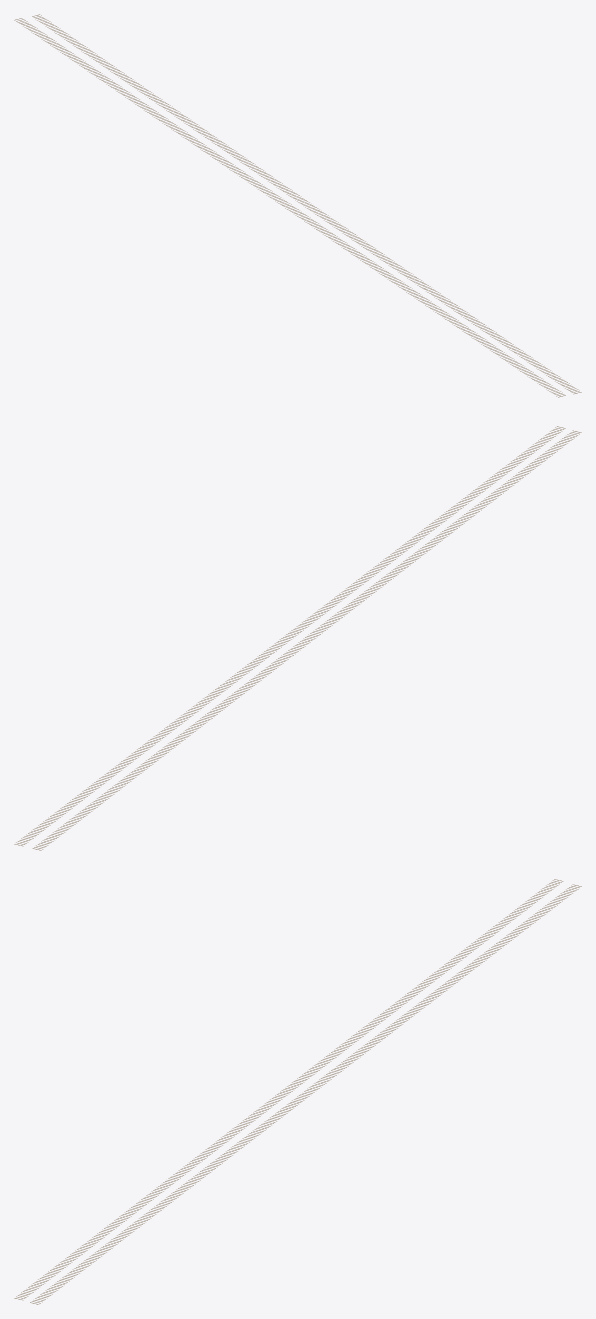
Rendered from c_1629_17842_rail_sleeper.glb.
3 renders of one model, top to bottom at view 1: azimuth 30°, elevation 25°; view 2: azimuth 150°, elevation 25°; view 3: azimuth 330°, elevation 25°, orthographic. The views are drawn at different scales.
Parts seen in each view (by area): view 1: geometry_0; view 2: geometry_0; view 3: geometry_0.
Part boxes in pixels (x1,y1,x2,y2): geometry_0: (14,14,581,397); geometry_0: (14,426,581,850); geometry_0: (14,879,581,1304).
Size of the model in its own units: 12.81 by 0.1635 by 256.
